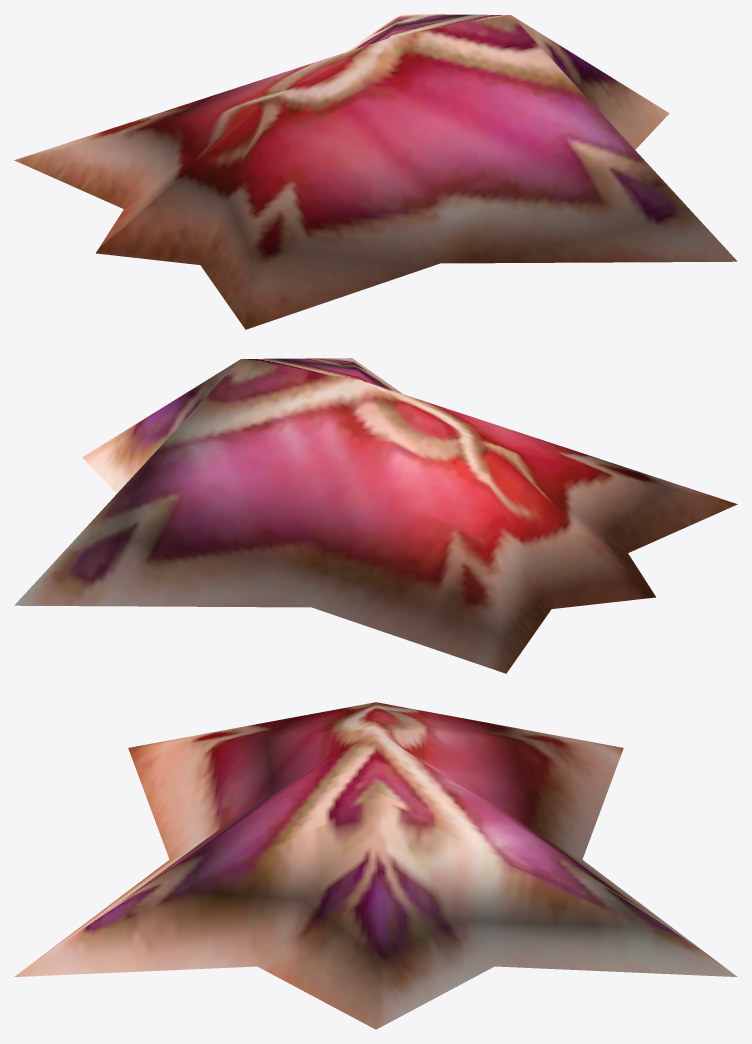
File: item_armshistar.glb
The picture shows the model from 3 angles, top to bottom: view 1: azimuth 30°, elevation 25°; view 2: azimuth 150°, elevation 25°; view 3: azimuth 270°, elevation 25°; orthographic projection. The views are drawn at different scales.
Visible parts, largest first — view 1: item_0; view 2: item_0; view 3: item_0.
Part boxes in pixels (<box>): item_0: <box>14,14,737,329</box>; item_0: <box>14,358,737,673</box>; item_0: <box>14,702,737,1029</box>.
Size of the model in its own units: 0.6192 by 0.2046 by 0.632.
1 material, 1 textured.
